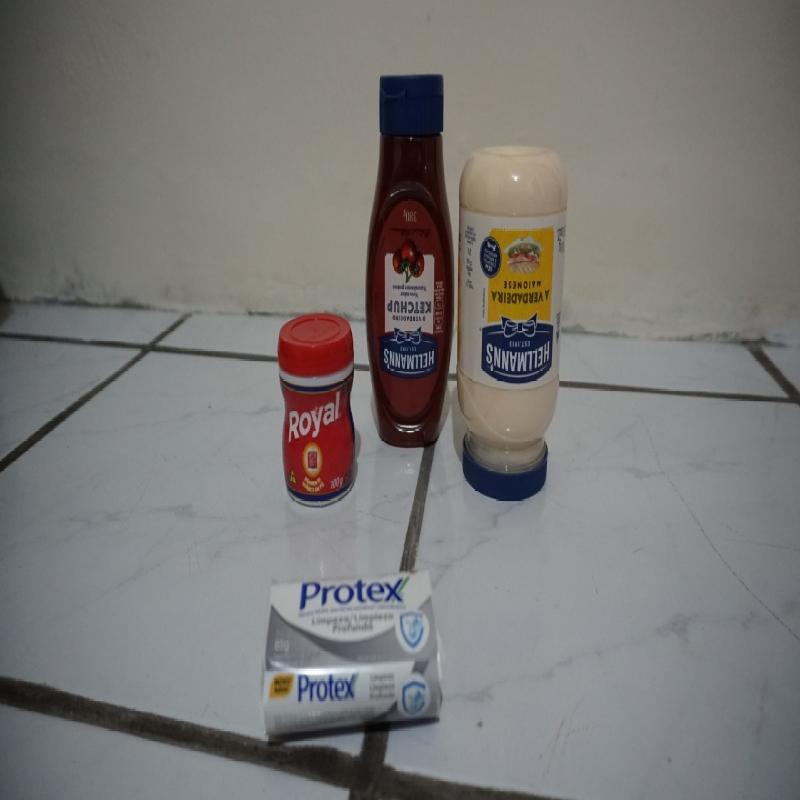Ketchup: (364, 72, 455, 446)
Mayonnaise: (457, 146, 566, 503)
Soap: (256, 568, 446, 736)
Yeast: (280, 308, 358, 504)
